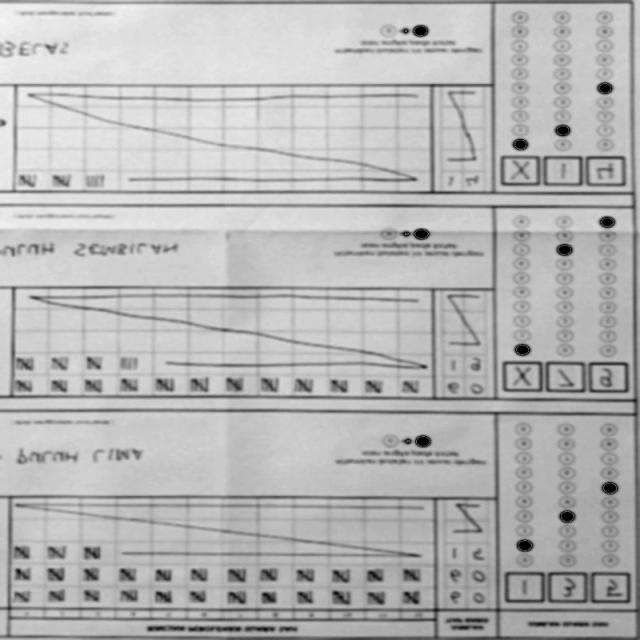Suara: (498, 357, 633, 397), (497, 157, 631, 197), (498, 570, 632, 610)
